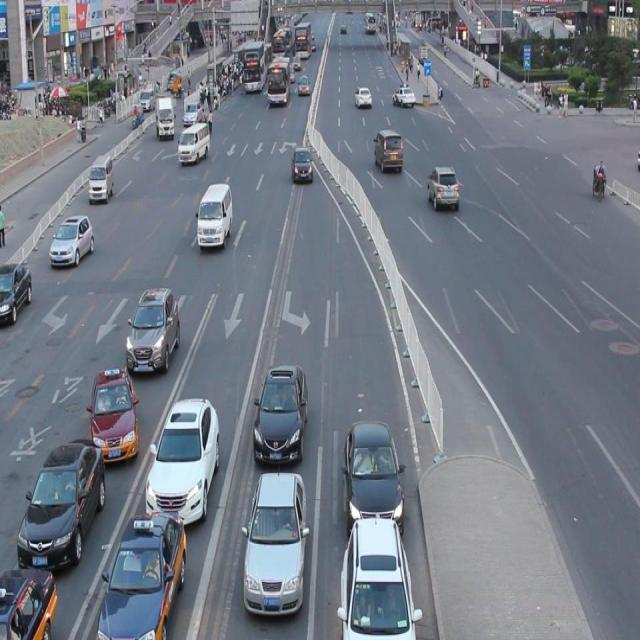car: (95, 505, 187, 640), (17, 434, 106, 571), (339, 511, 418, 640), (241, 464, 308, 615), (144, 393, 220, 524), (342, 412, 402, 528), (252, 359, 308, 464), (124, 282, 180, 375), (89, 363, 140, 464), (1, 564, 58, 640), (49, 213, 95, 267), (0, 262, 32, 326), (427, 166, 458, 212), (373, 128, 403, 173), (292, 144, 313, 185)
truck: (196, 182, 232, 248), (89, 155, 114, 203)
